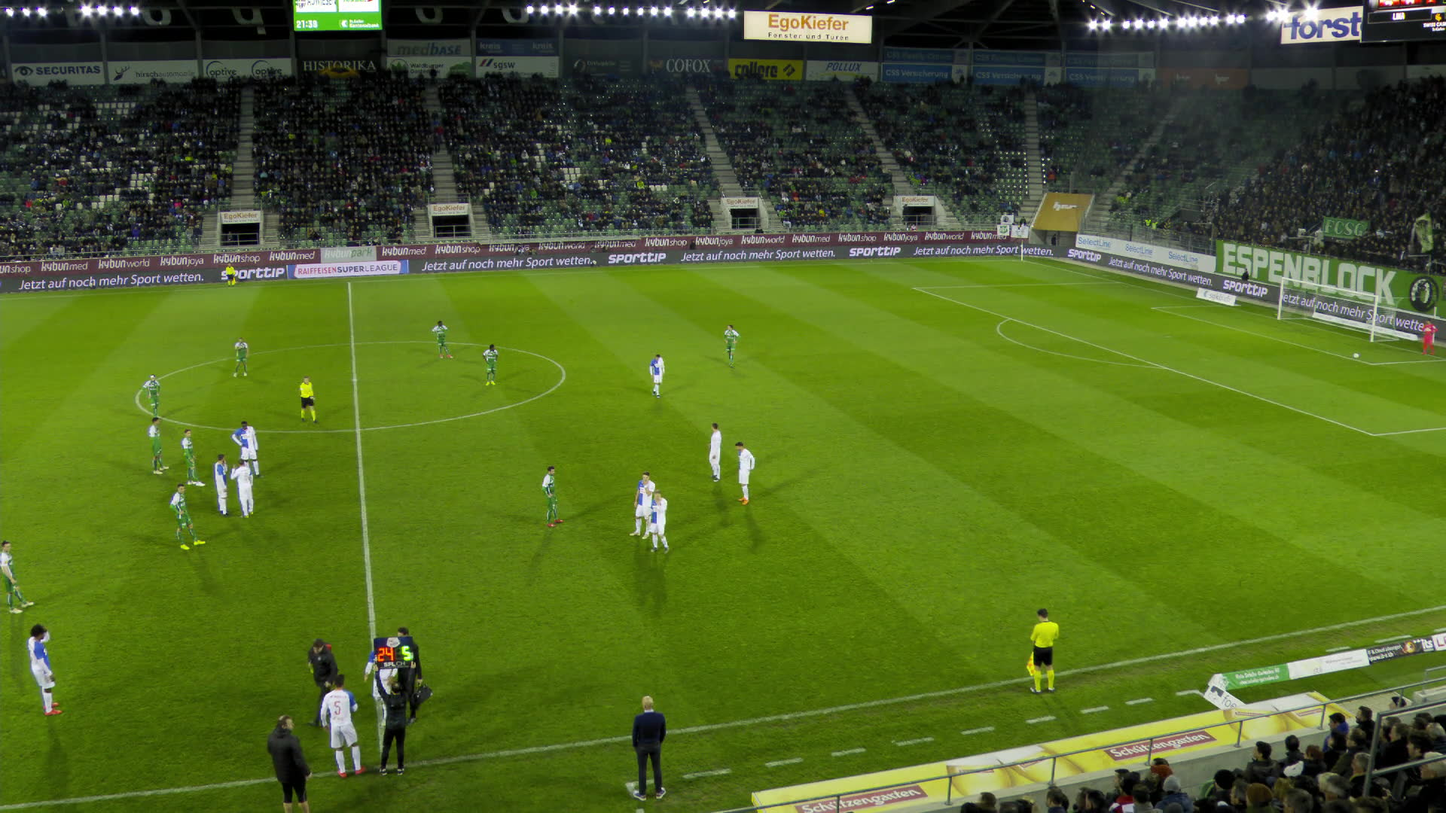ball: (374, 659, 415, 775), (388, 621, 431, 721), (299, 640, 339, 723), (1353, 352, 1358, 356)
player: (319, 674, 365, 778), (27, 623, 63, 714), (363, 646, 396, 718), (0, 540, 32, 612), (169, 483, 204, 548), (232, 415, 266, 476), (628, 467, 657, 534), (540, 461, 566, 524), (649, 483, 673, 551), (731, 438, 755, 503), (230, 458, 255, 517), (214, 453, 236, 516), (147, 407, 168, 470), (182, 428, 203, 485), (703, 422, 721, 483), (430, 315, 453, 355), (647, 346, 666, 394), (480, 340, 501, 382), (233, 333, 252, 372), (723, 324, 740, 366), (142, 374, 159, 416), (1421, 318, 1437, 353)
referee: (1025, 601, 1063, 692), (298, 370, 320, 419), (224, 260, 236, 285)
